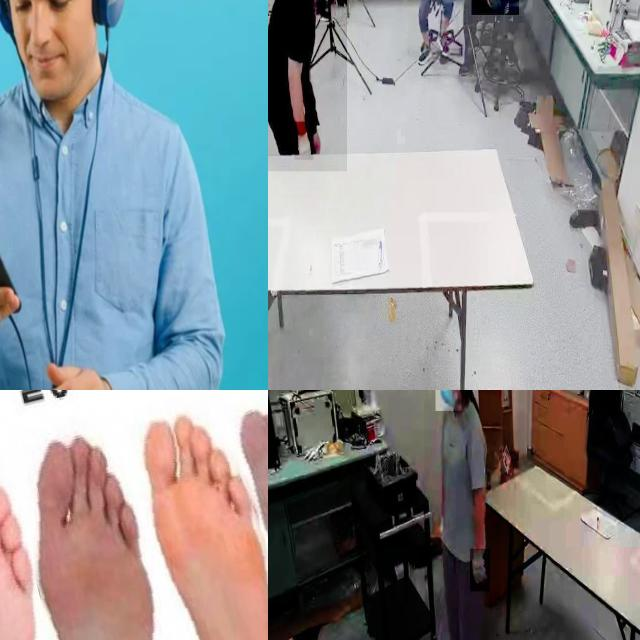Barefoots: (0, 400, 220, 640), (120, 390, 268, 640), (0, 420, 114, 640)
Ear-protection: (0, 0, 126, 97)
face_mask: (435, 390, 461, 411)
hand_glove: (470, 549, 490, 592), (294, 122, 314, 160)
hand_noglove: (481, 0, 491, 6)
person: (424, 390, 501, 640), (268, 0, 347, 172), (407, 0, 460, 79)
shoes: (416, 34, 434, 68), (436, 31, 452, 57)
